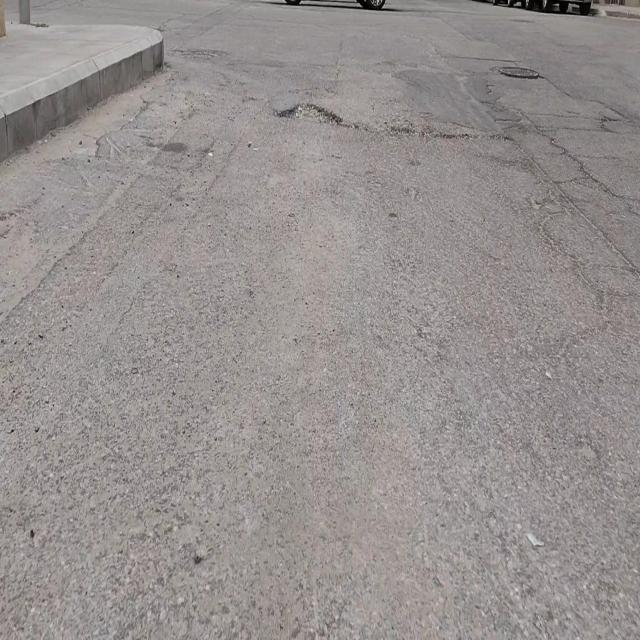Pothole: (279, 103, 341, 125)
